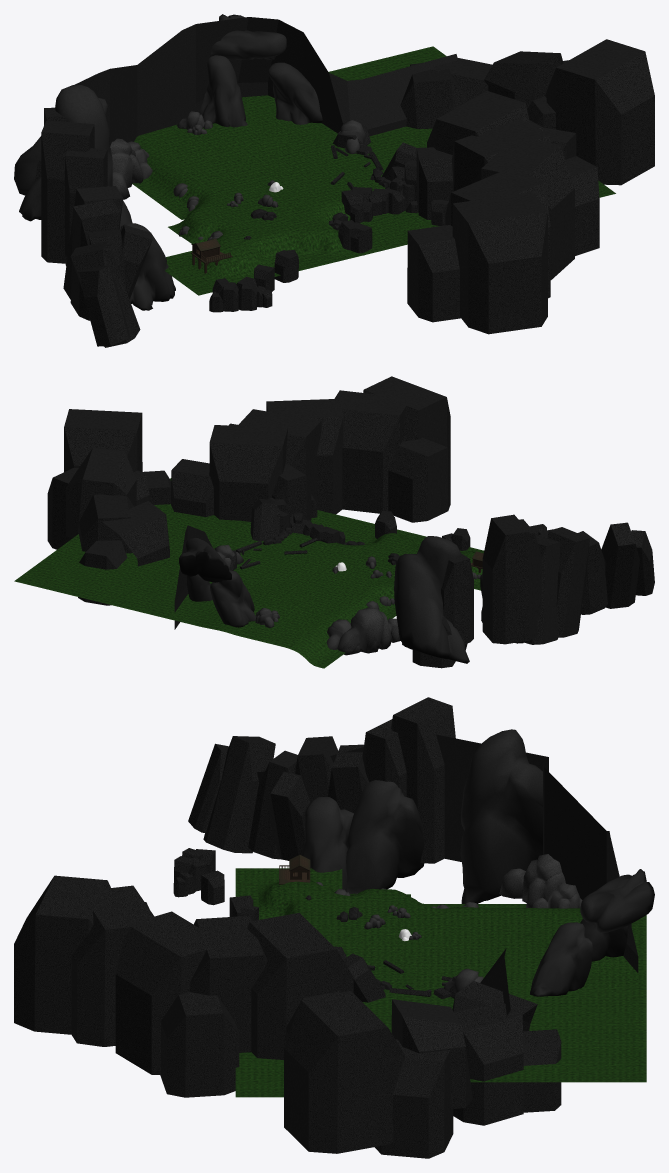
File: map_sc2a5.glb
The picture shows the model from 3 angles, top to bottom: view 1: azimuth 30°, elevation 25°; view 2: azimuth 150°, elevation 25°; view 3: azimuth 270°, elevation 25°; orthographic projection. The views are drawn at different scales.
Parts seen in each view (by area): view 1: Cube, land.001, Cube.001, Brock (×5), Rock (×2), Cabin, Cube.012; view 2: Cube, land.001, Brock (×4), Rock (×2), Cube.001, Cylinder, Cube.012; view 3: Cube, land.001, Brock (×6), Cube.001, Rock (×2), Cabin.
Part boxes in pixels (left/top/right/bottom): Cube: left=35, top=39, right=654, bottom=347; land.001: left=132, top=46, right=615, bottom=295; Cube.001: left=74, top=17, right=457, bottom=146; Brock (×5): left=14, top=14, right=322, bottom=310; Rock (×2): left=110, top=120, right=365, bottom=199; Cabin: left=191, top=238, right=232, bottom=273; Cube.012: left=244, top=168, right=391, bottom=239; Cube: left=47, top=376, right=654, bottom=668; land.001: left=14, top=478, right=483, bottom=668; Brock (×4): left=179, top=536, right=469, bottom=663; Rock (×2): left=326, top=607, right=400, bottom=655; Cube.001: left=174, top=525, right=212, bottom=629; Cylinder: left=236, top=538, right=317, bottom=569; Cube.012: left=263, top=527, right=399, bottom=565; Cube: left=14, top=697, right=561, bottom=1158; land.001: left=235, top=868, right=646, bottom=1097; Brock (×6): left=301, top=729, right=654, bottom=996; Cube.001: left=257, top=734, right=638, bottom=1015; Rock (×2): left=499, top=854, right=582, bottom=908; Cabin: left=279, top=855, right=310, bottom=884.
Size of what is drawn, in the model's own units: 243 by 57.5 by 197.
Materials: 11 (11 with a texture image).
